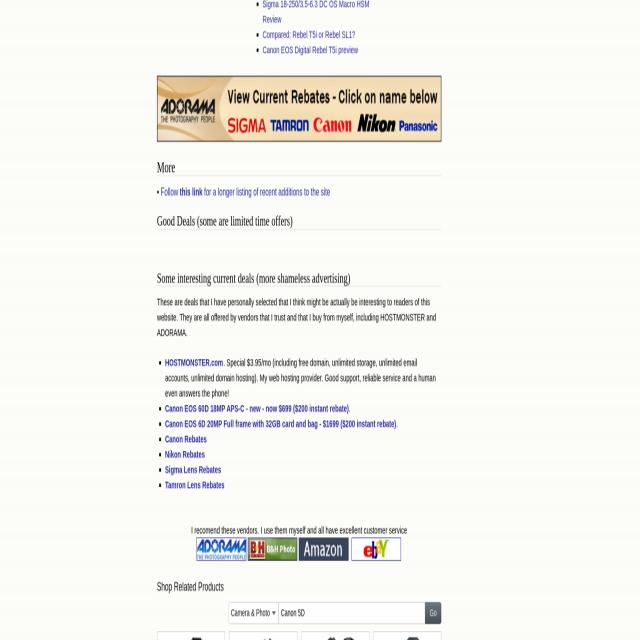button: (157, 75, 441, 140), (299, 536, 349, 559), (352, 536, 402, 559), (197, 536, 246, 559), (248, 536, 297, 559), (157, 631, 225, 640), (229, 631, 297, 640), (374, 631, 441, 640), (302, 632, 369, 640), (425, 601, 441, 622)
field: (279, 601, 425, 622), (228, 602, 278, 624)
